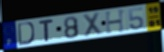5: (128, 7, 145, 31)
8: (63, 16, 80, 40)
D: (17, 21, 36, 46)
H: (104, 8, 126, 36)
T: (38, 18, 55, 42)
X: (81, 11, 103, 39)
